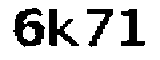1: (117, 5, 154, 53)
6: (13, 6, 46, 50)
7: (83, 3, 116, 50)
k: (47, 5, 82, 51)
